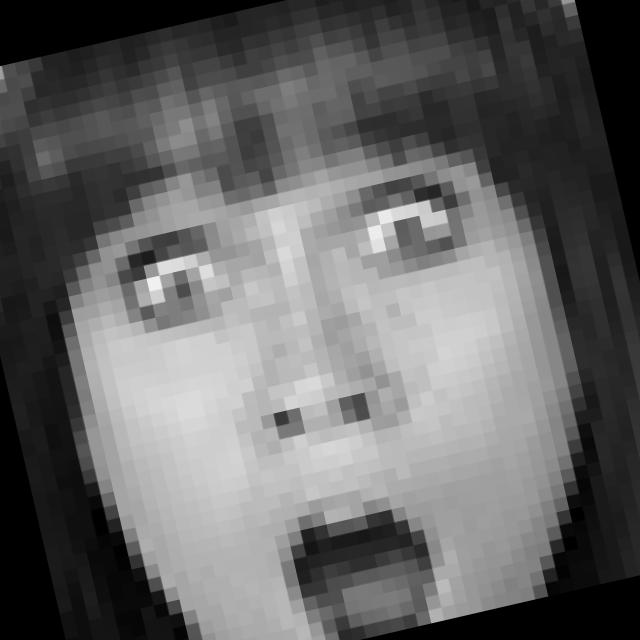surprise: (106, 150, 571, 640)
